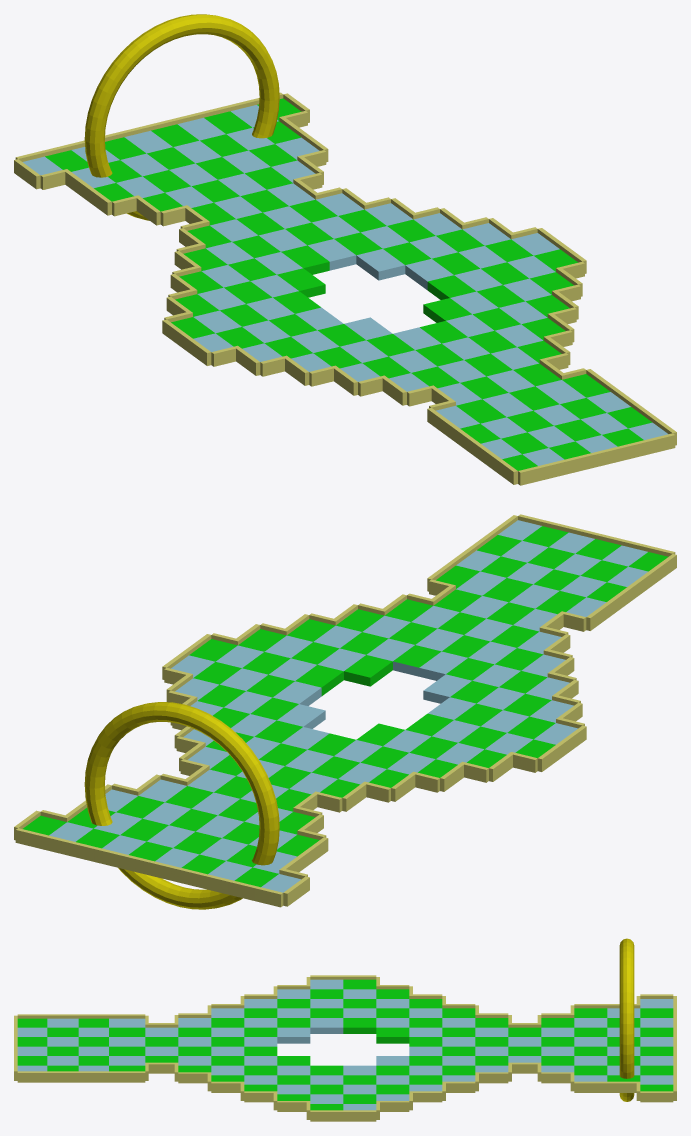
Rendered from BiscuitLevel.fbx.
3 views of the same model, one above another, from view 1: azimuth 30°, elevation 25°; view 2: azimuth 150°, elevation 25°; view 3: azimuth 270°, elevation 25° (orthographic). The views are drawn at different scales.
Visible parts, largest first — view 1: Cube, Goal; view 2: Cube, Goal; view 3: Cube, Goal.
Boxes of the visible parts, box(x1,y1,x2,y2) form: Cube: box(14, 92, 676, 485); Goal: box(84, 14, 279, 220); Cube: box(14, 514, 676, 907); Goal: box(84, 702, 279, 909); Cube: box(14, 975, 676, 1121); Goal: box(619, 938, 634, 1101).
Size of the model in its own units: 993 by 503 by 2037.
